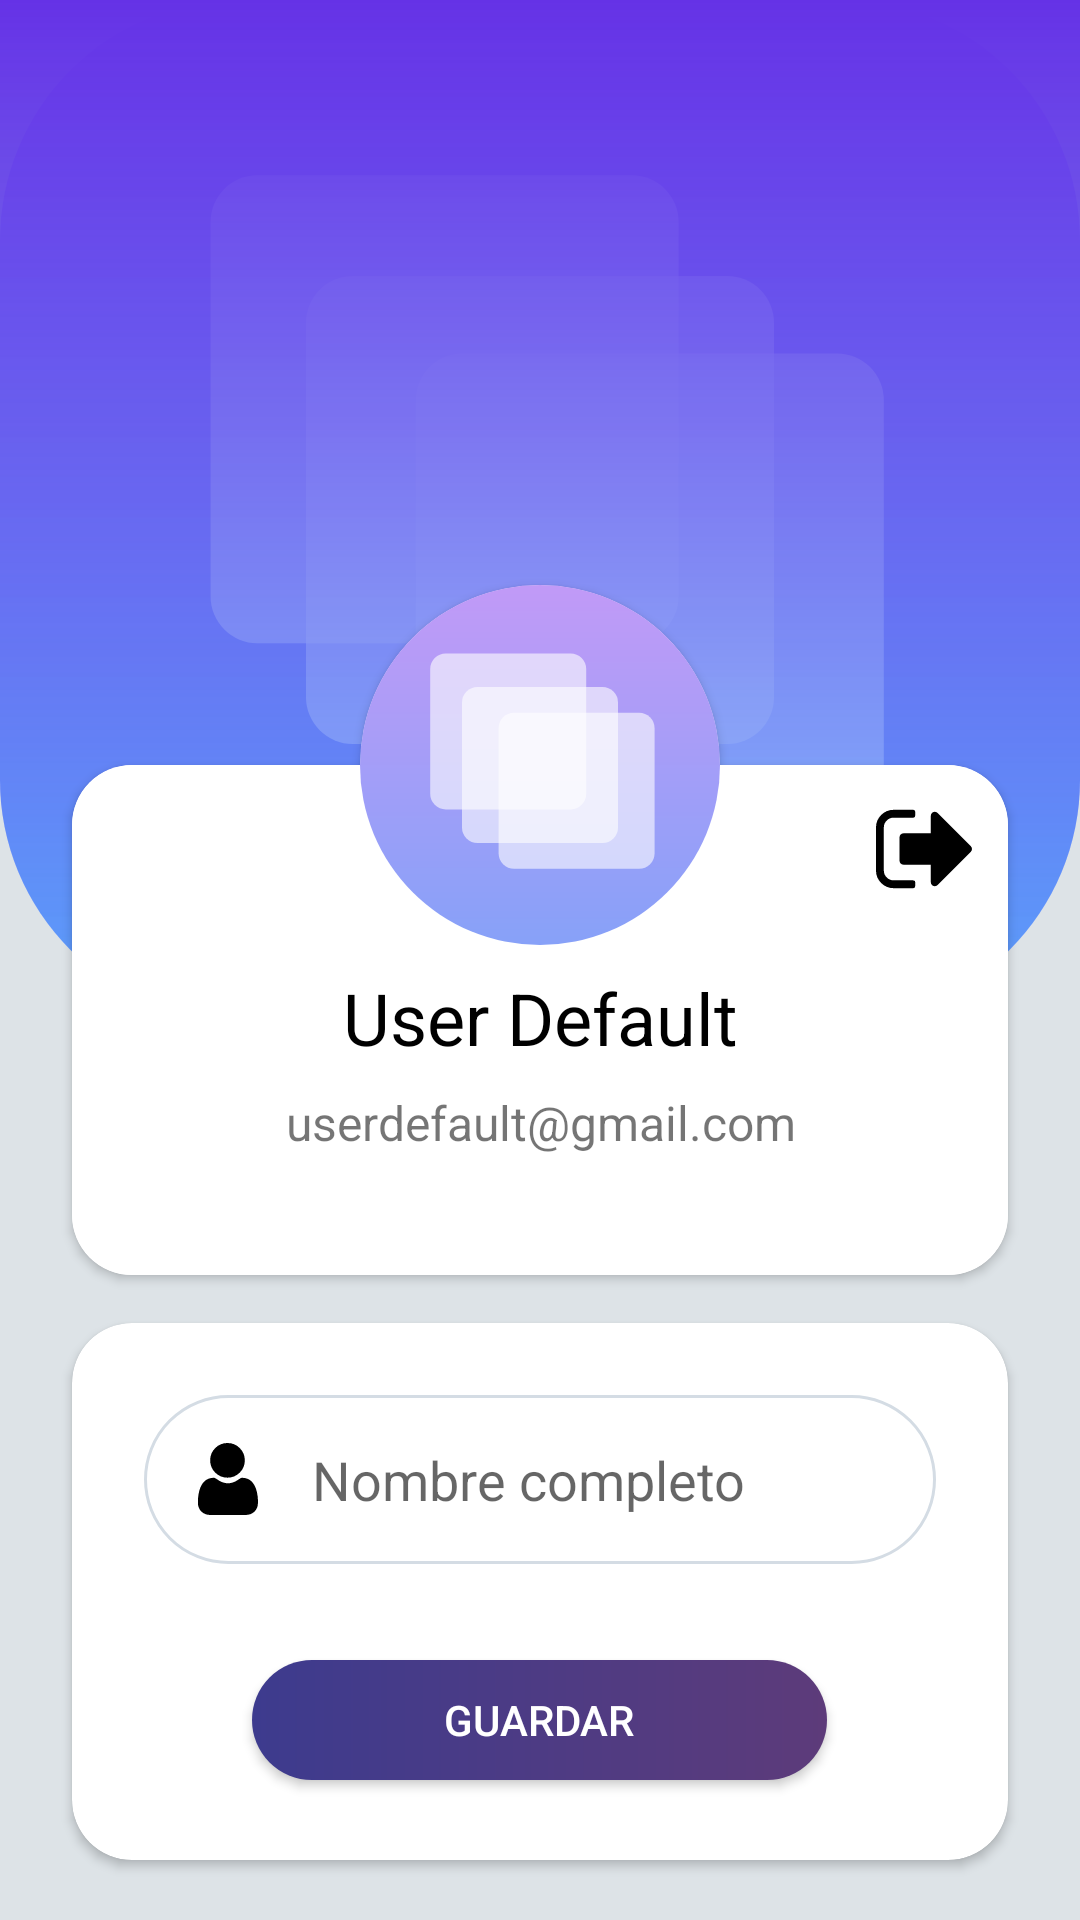

Named icons in this screenshot (1080w x 1920h) and their centers, [x,y]:
sign out: [924,849]
